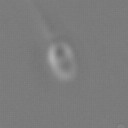abnormal: (33, 1, 64, 42)
